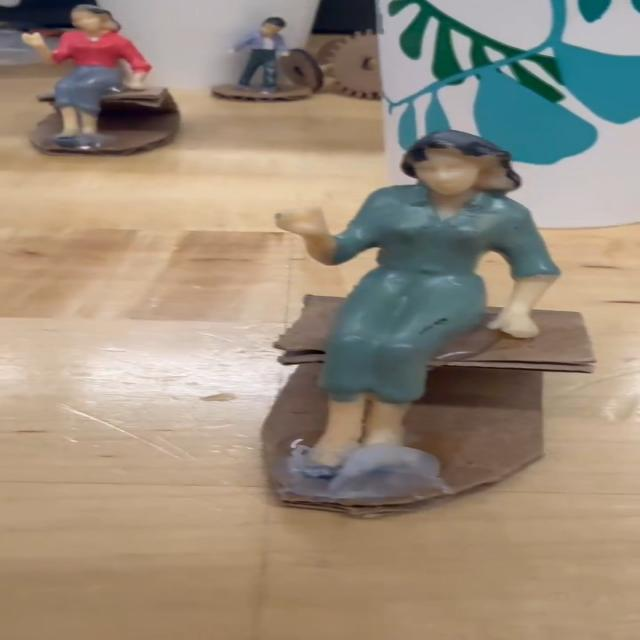Authorized: (272, 130, 552, 488)
